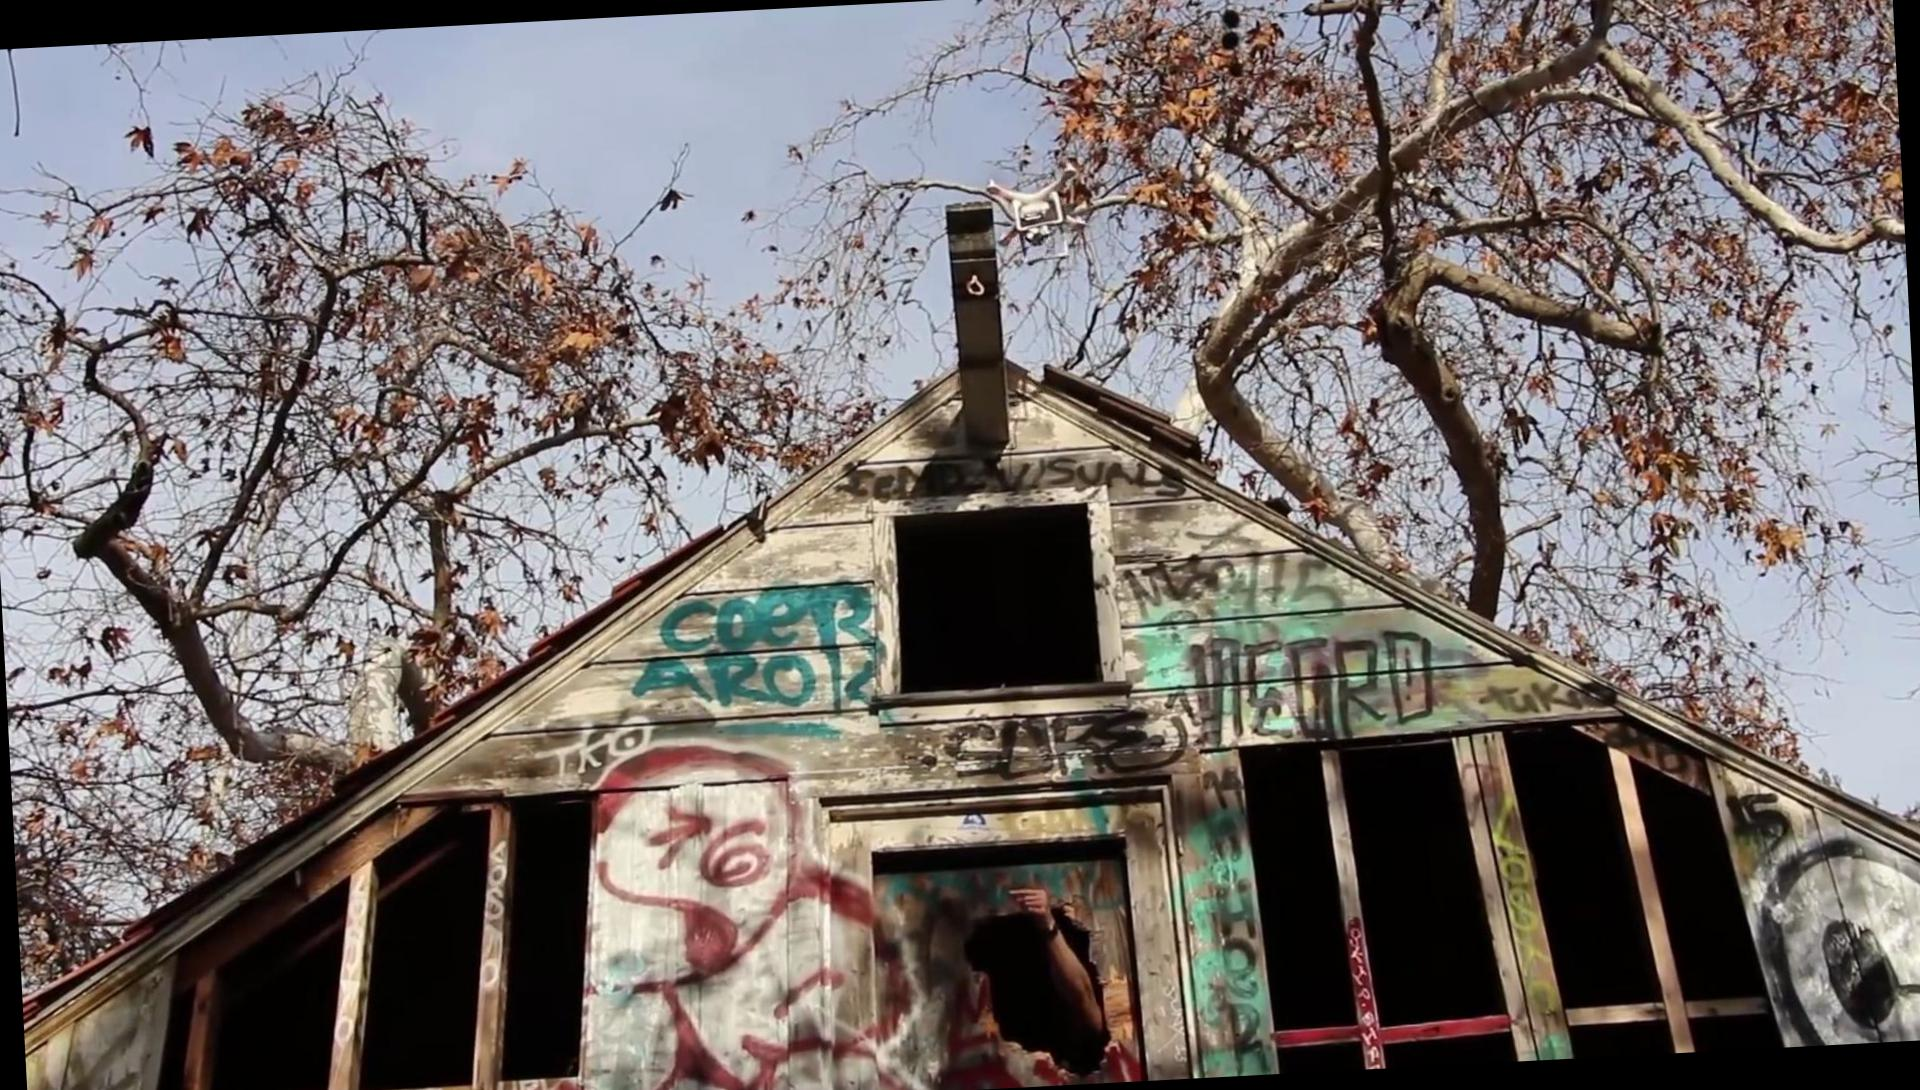drone: (975, 157, 1101, 250)
